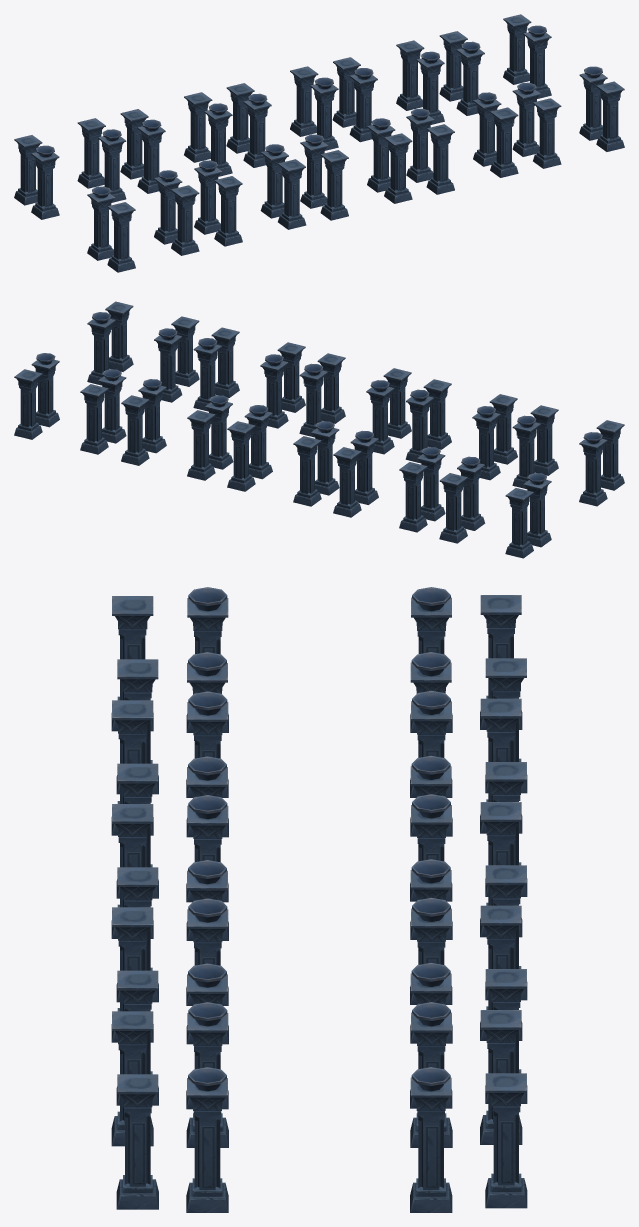
The model's file is wujian18.fbx.
3 views of the same model, one above another, from view 1: azimuth 30°, elevation 25°; view 2: azimuth 150°, elevation 25°; view 3: azimuth 270°, elevation 25° (orthographic). The views are drawn at different scales.
Parts seen in each view (by area): view 1: wujian18; view 2: wujian18; view 3: wujian18.
Boxes of the visible parts, x1,y1,x2,y2 form: wujian18: (14, 14, 624, 272); wujian18: (14, 301, 624, 558); wujian18: (111, 587, 527, 1212).
Bounding box in the file's own units: 4310 × 519 × 1521.
1 material, 1 textured.
